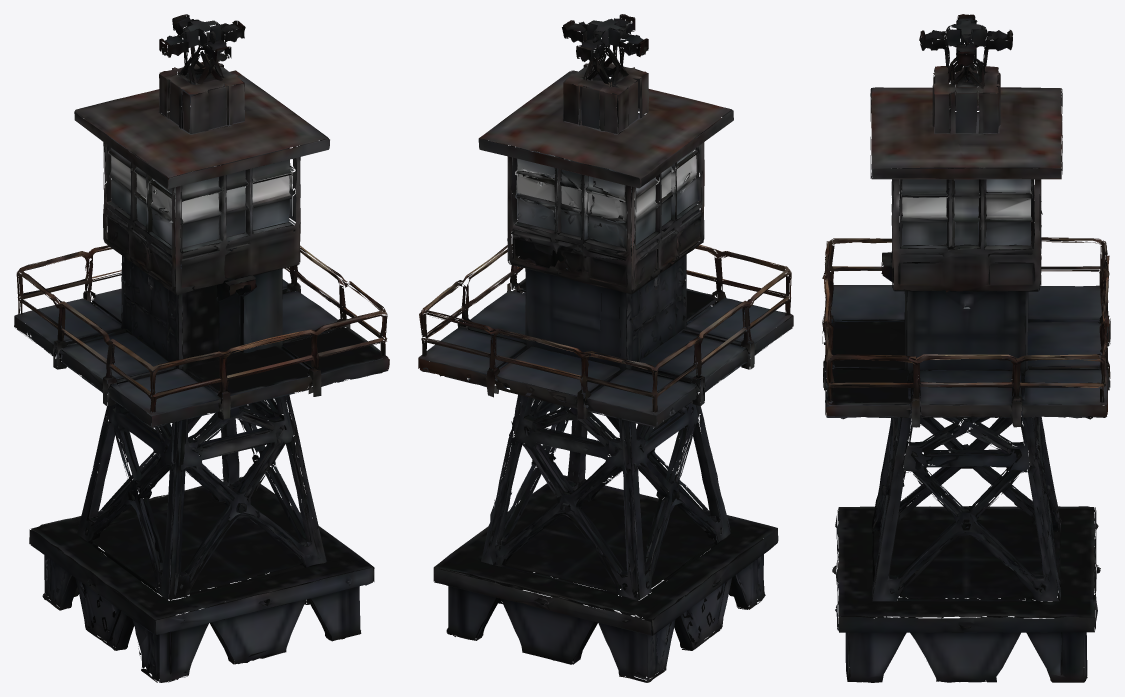
Rendered from wobani-watchtower.hq.glb.
3 renders of one model, left to right at view 1: azimuth 30°, elevation 25°; view 2: azimuth 150°, elevation 25°; view 3: azimuth 270°, elevation 25°, orthographic. The views are drawn at different scales.
Parts seen in each view (by area): view 1: low; view 2: low; view 3: low.
Boxes of the visible parts, <box> form: low: <box>14,14,389,682</box>; low: <box>418,14,793,682</box>; low: <box>822,14,1110,682</box>.
Size of the model in its own units: 0.4356 by 1.01 by 0.4334.
1 material, 1 textured.
